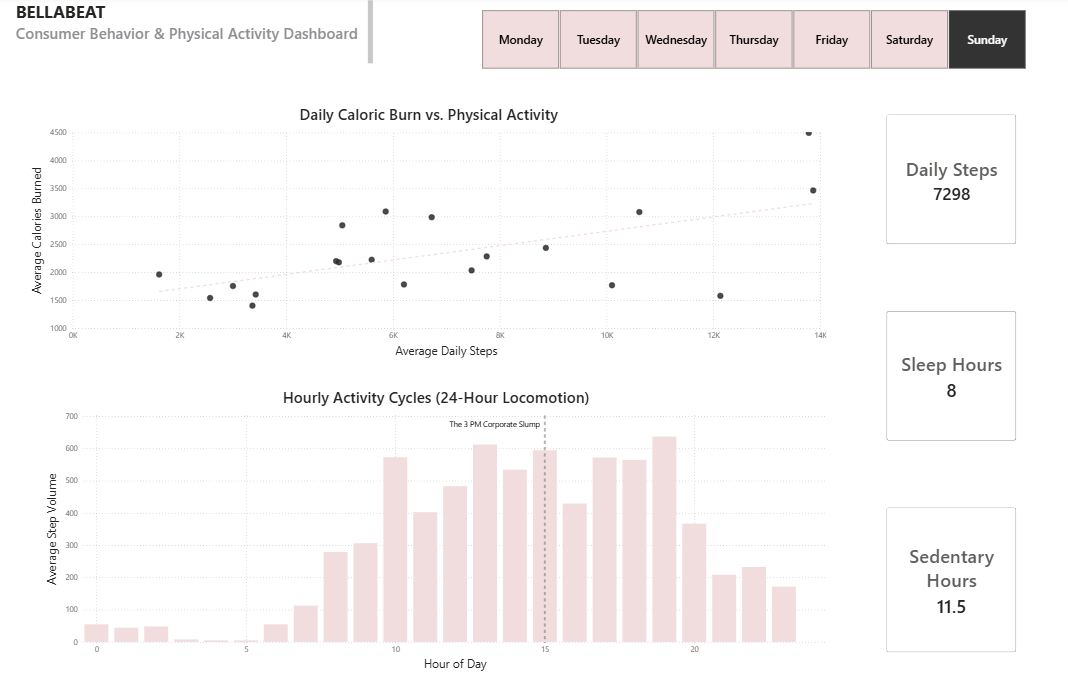

The page's visual inventory and layout, read from the dashboard file:
{"tool":"powerbi","page":{"name":"Page 1","canvas":[1700,1100],"ordinal":0},"visuals":[{"type":"cardVisual","fields":{"Data":["Avg(daily_activity_sleep_clean.TotalSteps)"]},"box":[1416,192,240,240],"z":0},{"type":"cardVisual","fields":{"Data":["daily_activity_sleep_clean.Avg Sleep Hours"]},"box":[1416,504,240,240],"z":1000},{"type":"cardVisual","fields":{"Data":["daily_activity_sleep_clean.Avg Sedentary Hours"]},"box":[1416,816,240,264],"z":2000},{"type":"scatterChart","title":"Daily Caloric Burn vs. Physical Activity","fields":{"X":["Avg(daily_activity_sleep_clean.TotalSteps)"],"Y":["Avg(daily_activity_sleep_clean.Calories)"],"Category":["daily_activity_sleep_clean.Id"]},"box":[48,192,1272,408],"z":3000},{"type":"clusteredColumnChart","title":"Hourly Activity Cycles (24-Hour Locomotion)","fields":{"Category":["hourly_steps_clean.Hour"],"Y":["Avg(hourly_steps_clean.StepTotal)"]},"box":[72,644,1248,456],"z":4000},{"type":"slicer","fields":{"Values":["daily_activity_sleep_clean.DayOfWeek"]},"box":[720,24,960,120],"z":5000},{"type":"textbox","box":[24,24,576,120],"z":6000}]}

Visuals, with their boxes in screenshot pixels (x1, y1, x2, y2), scaled from the page's 1700x1100 canvas onto the 1068x673 screenshot:
cardVisual - Avg(daily_activity_sleep_clean.TotalSteps): (890, 117, 1040, 264)
cardVisual - daily_activity_sleep_clean.Avg Sleep Hours: (890, 308, 1040, 455)
cardVisual - daily_activity_sleep_clean.Avg Sedentary Hours: (890, 499, 1040, 661)
"Daily Caloric Burn vs. Physical Activity" scatterChart: (30, 117, 829, 367)
"Hourly Activity Cycles (24-Hour Locomotion)" clusteredColumnChart: (45, 394, 829, 672)
slicer - daily_activity_sleep_clean.DayOfWeek: (452, 15, 1055, 88)
textbox: (15, 15, 377, 88)
